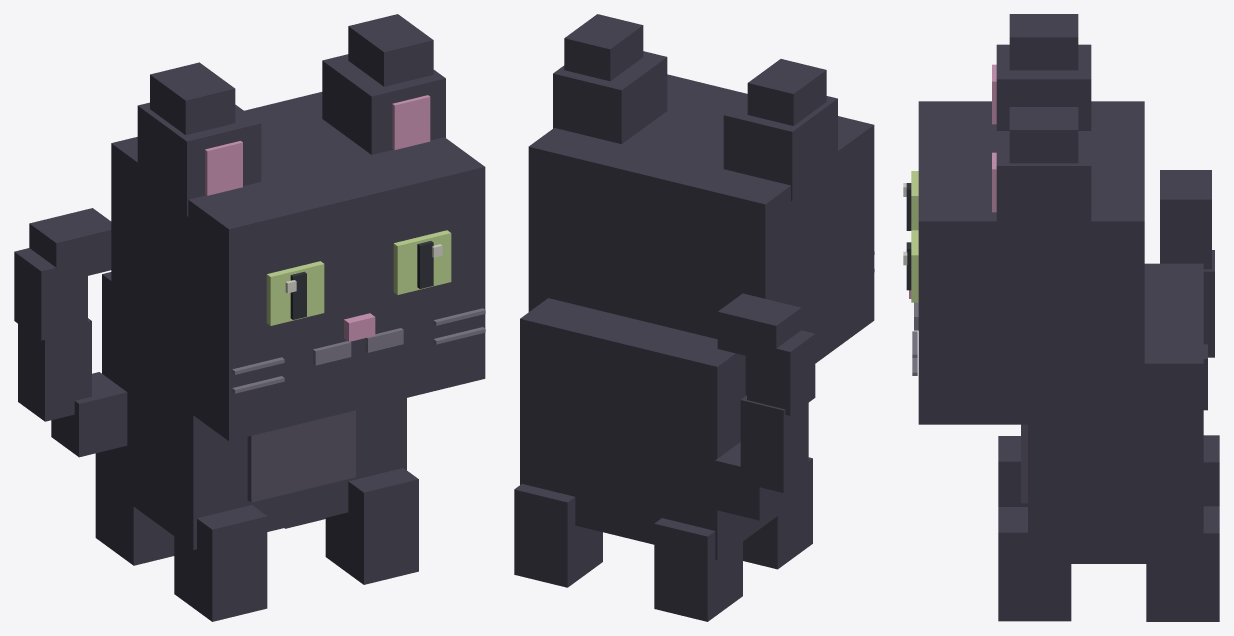
The model's file is pixel-black-cat.glb.
3 renders of one model, left to right at view 1: azimuth 30°, elevation 25°; view 2: azimuth 150°, elevation 25°; view 3: azimuth 270°, elevation 25°, orthographic. The views are drawn at different scales.
Parts seen in each view (by area): view 1: head, body, front_paw-0.55, front_paw0.55, ear_base-1, chest, ear_base1, tail_mid, tail_high, ear_tip-1, ear_tip1, tail_tip (+11 smaller); view 2: head, body, ear_base-1, ear_base1, rear_paw-0.55, rear_paw0.55, tail_mid, tail_high, tail_tip, ear_tip1, ear_tip-1, front_paw-0.55 (+1 smaller); view 3: head, body, ear_base1, front_paw0.55, rear_paw0.55, ear_base-1, ear_tip-1, ear_tip1, tail_tip, front_paw-0.55, tail_high, rear_paw-0.55 (+4 smaller).
Boxes of the visible parts, x1,y1,x2,y2 form: head: [111, 92, 485, 441]; body: [102, 272, 406, 549]; front_paw-0.55: [174, 505, 267, 621]; front_paw0.55: [325, 468, 418, 584]; ear_base-1: [137, 102, 261, 216]; chest: [247, 410, 355, 502]; ear_base1: [322, 54, 445, 154]; tail_mid: [18, 318, 91, 421]; tail_high: [14, 248, 87, 340]; ear_tip-1: [150, 62, 235, 134]; ear_tip1: [348, 14, 433, 86]; tail_tip: [29, 208, 111, 278]; head: [528, 74, 874, 395]; body: [520, 298, 801, 559]; ear_base-1: [723, 96, 837, 201]; ear_base1: [553, 51, 667, 144]; rear_paw-0.55: [654, 518, 742, 621]; rear_paw0.55: [514, 484, 602, 587]; tail_mid: [740, 395, 808, 492]; tail_high: [747, 330, 815, 415]; tail_tip: [717, 293, 801, 362]; ear_tip1: [564, 14, 643, 81]; ear_tip-1: [747, 59, 826, 125]; front_paw-0.55: [743, 457, 812, 569]; head: [918, 101, 1144, 424]; body: [1028, 263, 1203, 563]; ear_base1: [996, 131, 1091, 237]; front_paw0.55: [998, 507, 1071, 621]; rear_paw0.55: [1146, 506, 1219, 621]; ear_base-1: [996, 44, 1091, 130]; ear_tip-1: [1009, 14, 1078, 70]; ear_tip1: [1009, 107, 1078, 163]; tail_tip: [1160, 170, 1211, 238]; front_paw-0.55: [998, 436, 1027, 506]; tail_high: [1160, 238, 1211, 269]; rear_paw-0.55: [1203, 435, 1219, 506].
Bounding box in the file's own units: 2.32 × 3.62 × 2.07.
